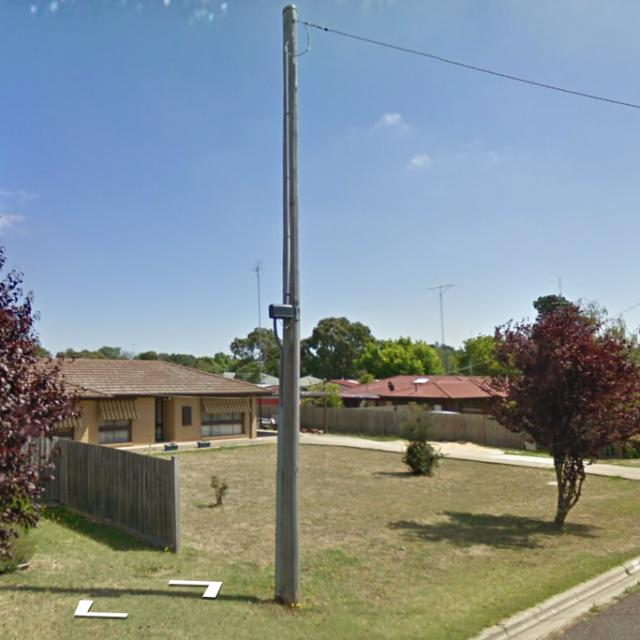timber-pole: (273, 4, 301, 607)
top mount suitable pole: (266, 5, 301, 606)
